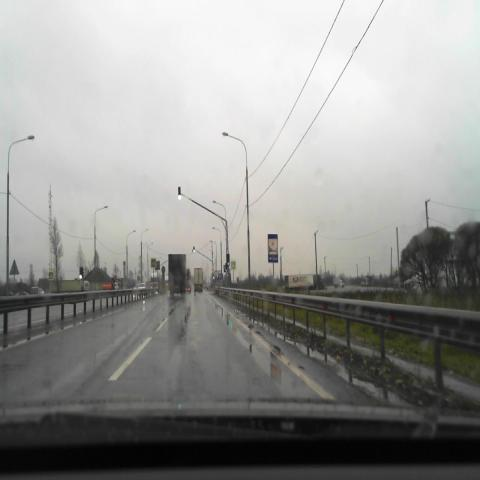7_2: (267, 234, 278, 263)
